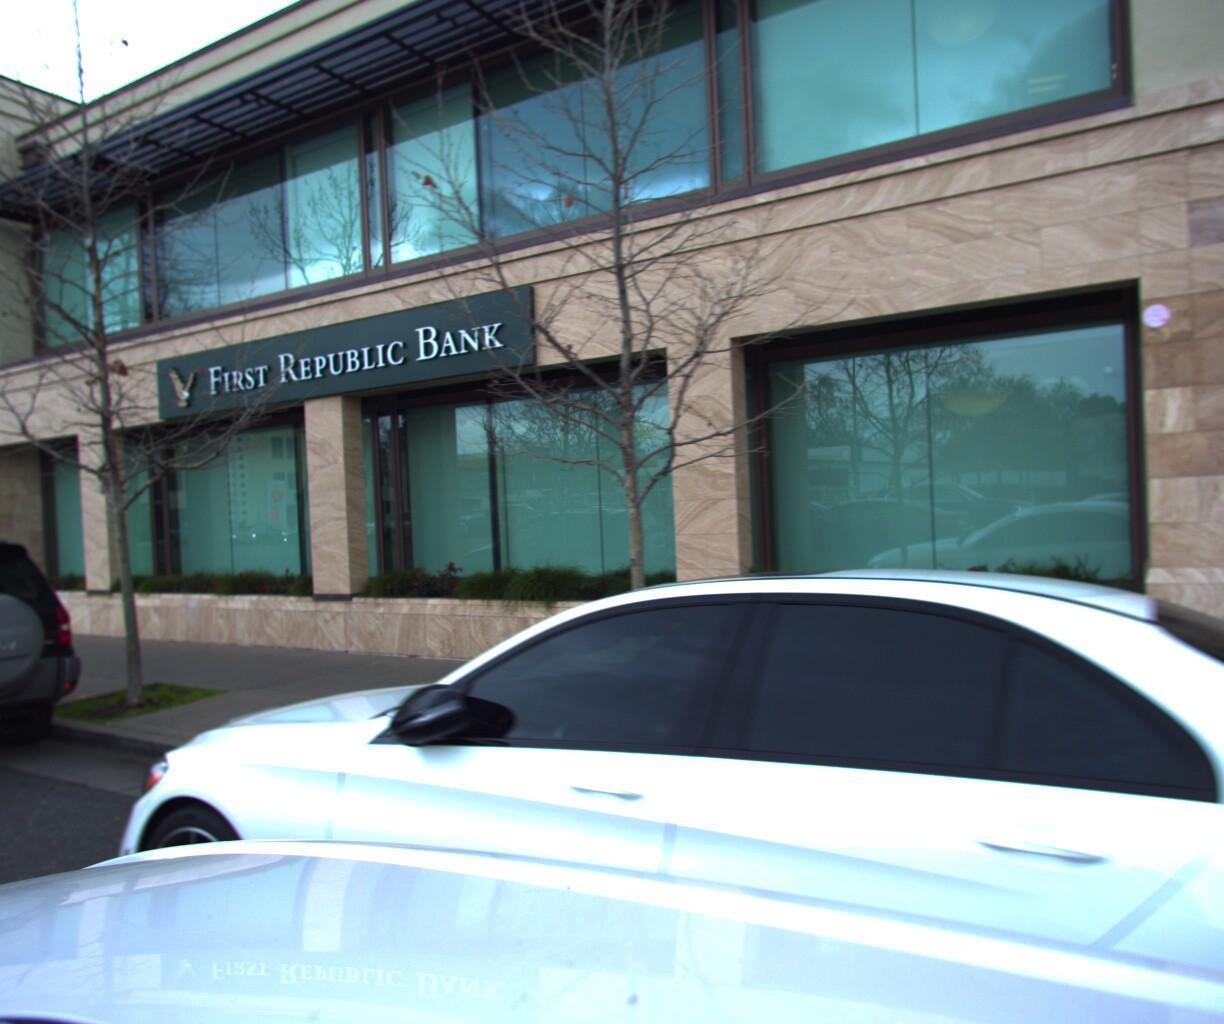car: (0, 460, 1224, 1024), (0, 513, 123, 821)
